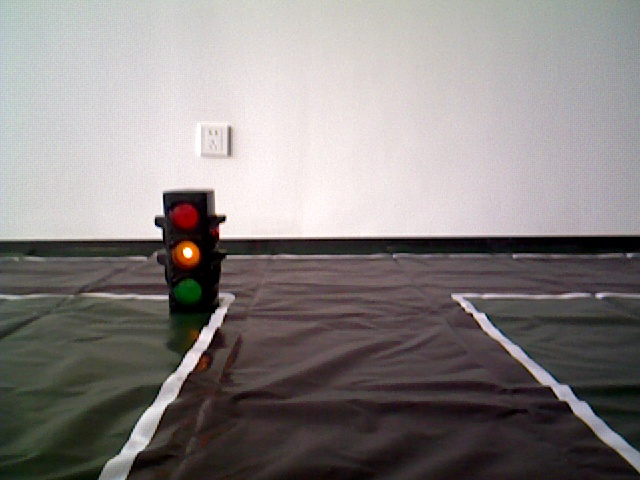yellow: (165, 191, 221, 317)
